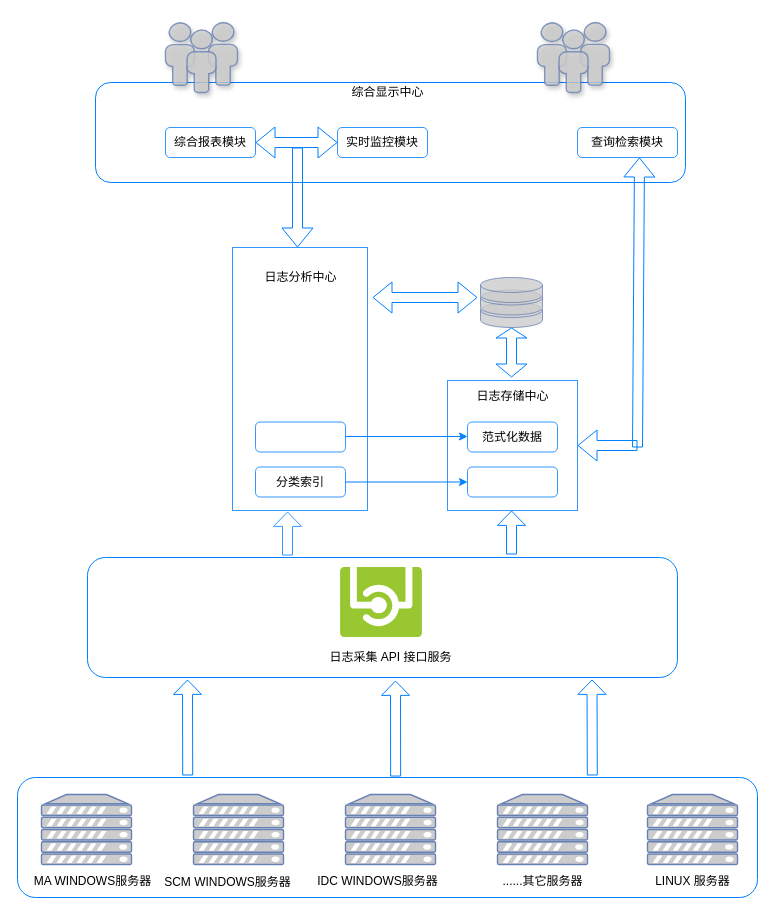
Some shapes in this 775 by 915 pixel diagram are drawn without their labels. Each missing label, with the centre of its shape:
"原始数据" belongs at [512,481].
"范式化" belongs at [300,436].
